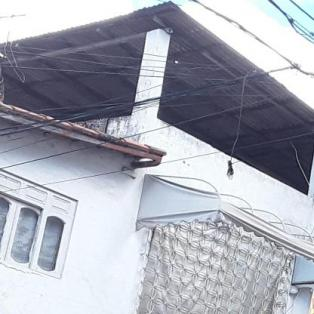Poste: (265, 0, 314, 314)
